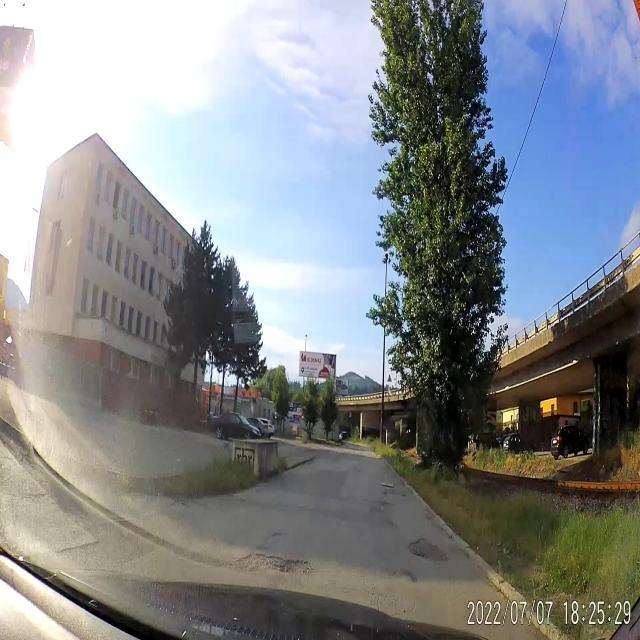Pothole: (236, 544, 316, 578), (408, 535, 450, 567), (366, 494, 394, 518), (381, 488, 407, 498)
